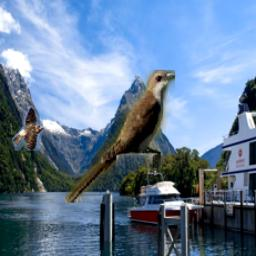Cuckoo: (66, 70, 176, 203)
Swallow: (12, 105, 43, 151)
